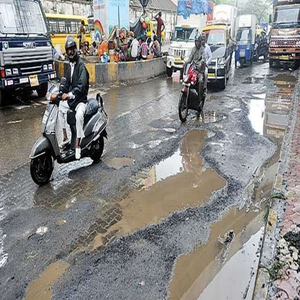pothole: (111, 125, 232, 243)
